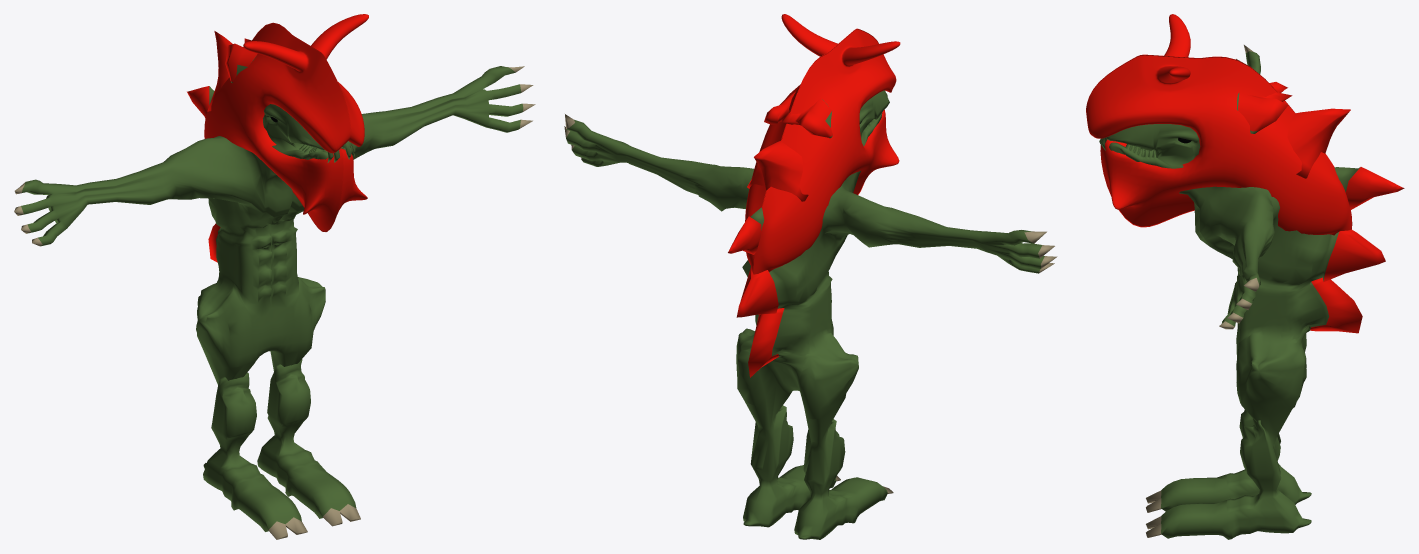
The model's file is TestFBX.fbx.
3 renders of one model, left to right at view 1: azimuth 30°, elevation 25°; view 2: azimuth 150°, elevation 25°; view 3: azimuth 270°, elevation 25°, orthographic. The views are drawn at different scales.
Parts seen in each view (by area): view 1: Cube.001; view 2: Cube.001; view 3: Cube.001.
Boxes of the visible parts, bbox=[...] form: Cube.001: bbox=[14, 14, 535, 539]; Cube.001: bbox=[564, 14, 1057, 539]; Cube.001: bbox=[1086, 14, 1404, 539].
Bounding box in the file's own units: 730 × 660 × 400.
